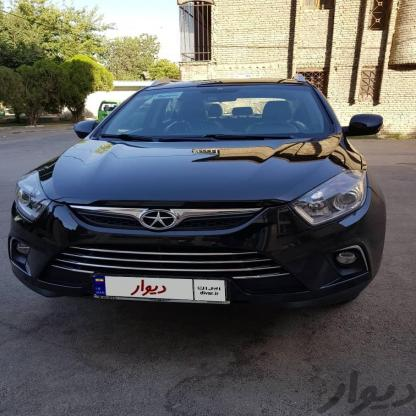Car: (0, 76, 377, 324)
